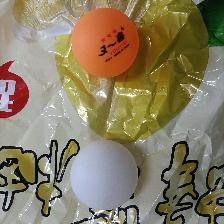WhiteBall: (68, 139, 138, 210)
YellowBall: (70, 7, 139, 77)
